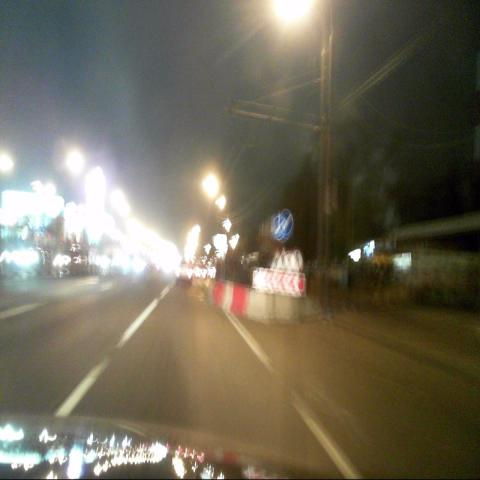3_10: (290, 249, 302, 270)
